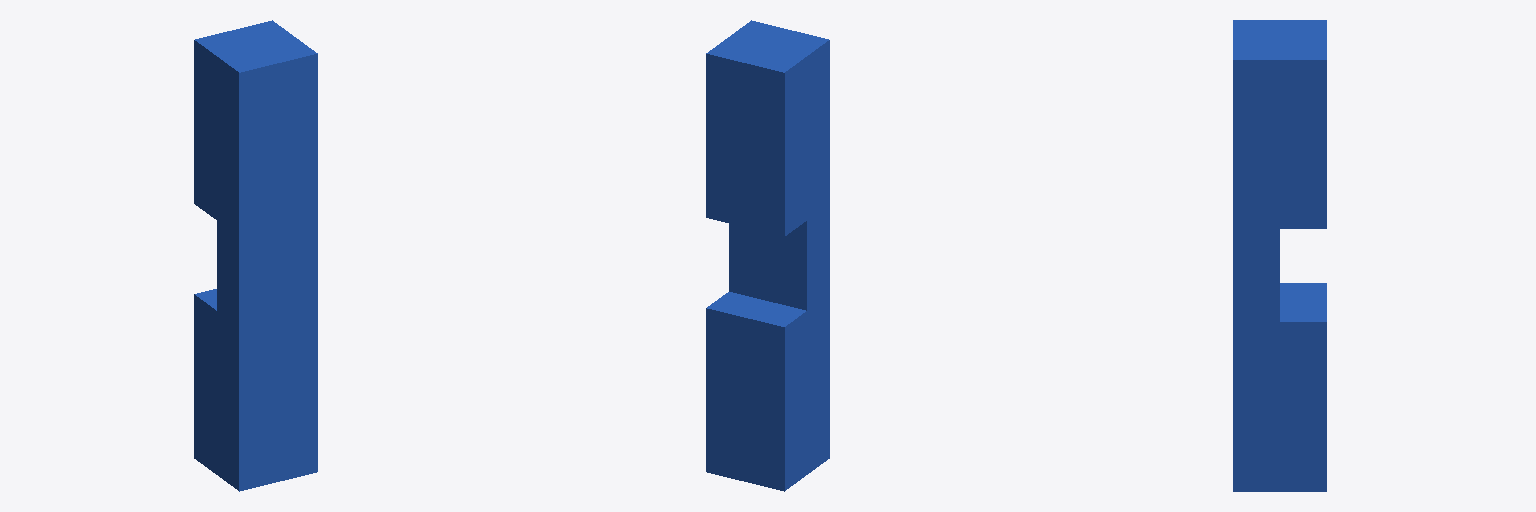
URDF robot description (obj_5):
<robot name="obj_5" version="1.0">
  <link name="obj_5">
    <collision name="medium-piece-1-collision.001">
      <origin rpy="0.00000 0.00000 0.00000" xyz="0.00000 0.00000 0.00000"/>
      <geometry>
        <mesh filename="../meshes/obj/medium-piece-1-collision.001.obj" scale="1.00000 1.00000 1.00000"/>
      </geometry>
    </collision>
    <collision name="medium-piece-1-collision.002">
      <origin rpy="0.00000 0.00000 0.00000" xyz="0.00000 0.00000 0.00000"/>
      <geometry>
        <mesh filename="../meshes/obj/medium-piece-1-collision.002.obj" scale="1.00000 1.00000 1.00000"/>
      </geometry>
    </collision>
    <collision name="medium-piece-1-collision.003">
      <origin rpy="0.00000 0.00000 0.00000" xyz="0.00000 0.00000 0.00000"/>
      <geometry>
        <mesh filename="../meshes/obj/medium-piece-1-collision.003.obj" scale="1.00000 1.00000 1.00000"/>
      </geometry>
    </collision>
    <inertial>
      <inertia ixx="0.00002" ixy="-0.00000" ixz="0.00000" iyy="0.00002" iyz="0.00000" izz="0.00000"/>
      <origin rpy="0.00000 0.00000 0.00000" xyz="-0.25576 0.18655 0.17991"/>
      <mass value="0.00400"/>
    </inertial>
    <visual name="medium-piece-1">
      <material name="turnarrow"/>
      <origin rpy="-1.57080 1.57080 0.00000" xyz="-0.25576 0.19431 0.17991"/>
      <geometry>
        <mesh filename="../meshes/obj/medium-piece.001.obj" scale="0.00500 0.00500 0.00500"/>
      </geometry>
    </visual>
  </link>
  <material name="turnarrow">
    <color rgba="0.23137 0.44706 0.80000 1.00000"/>
  </material>
</robot>

--- Render facts (derived) ---
Views: 3 orthographic renders of the robot side by side, from view 1: azimuth 30°, elevation 25°; view 2: azimuth 150°, elevation 25°; view 3: azimuth 270°, elevation 25°.
Model obj_5 with 1 links and 0 joints (none), rooted at obj_5, posed every joint at zero.
Visible links, largest first — view 1: obj_5; view 2: obj_5; view 3: obj_5.
Boxes of the visible links, x1,y1,x2,y2 form: obj_5: (194, 20, 317, 491); obj_5: (706, 20, 829, 491); obj_5: (1233, 20, 1326, 491).
Bounding box of the posed robot: 0.05 × 0.05 × 0.255 m (x, y, z).
1 mesh visuals loaded from 1 distinct referenced files (1 OBJ).